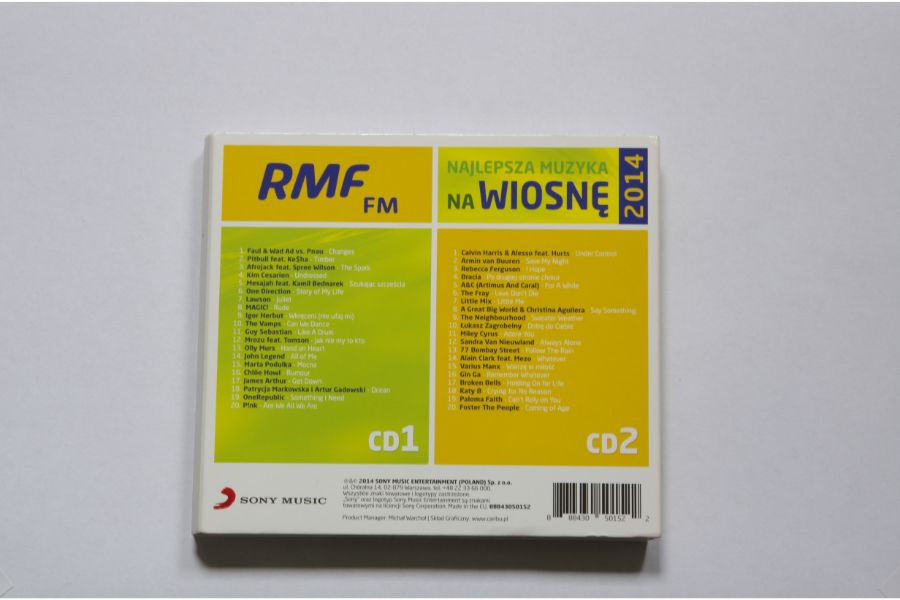album: (191, 127, 664, 540)
